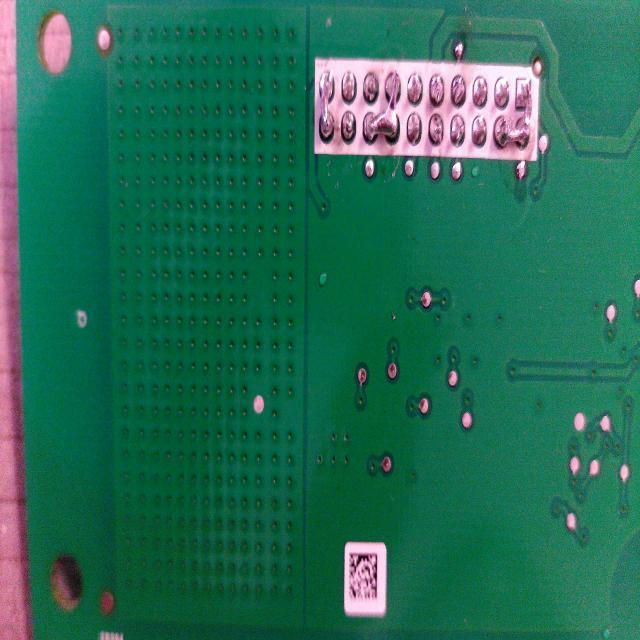Soldering shorted: (490, 70, 538, 158), (361, 65, 403, 151), (316, 67, 338, 148)
